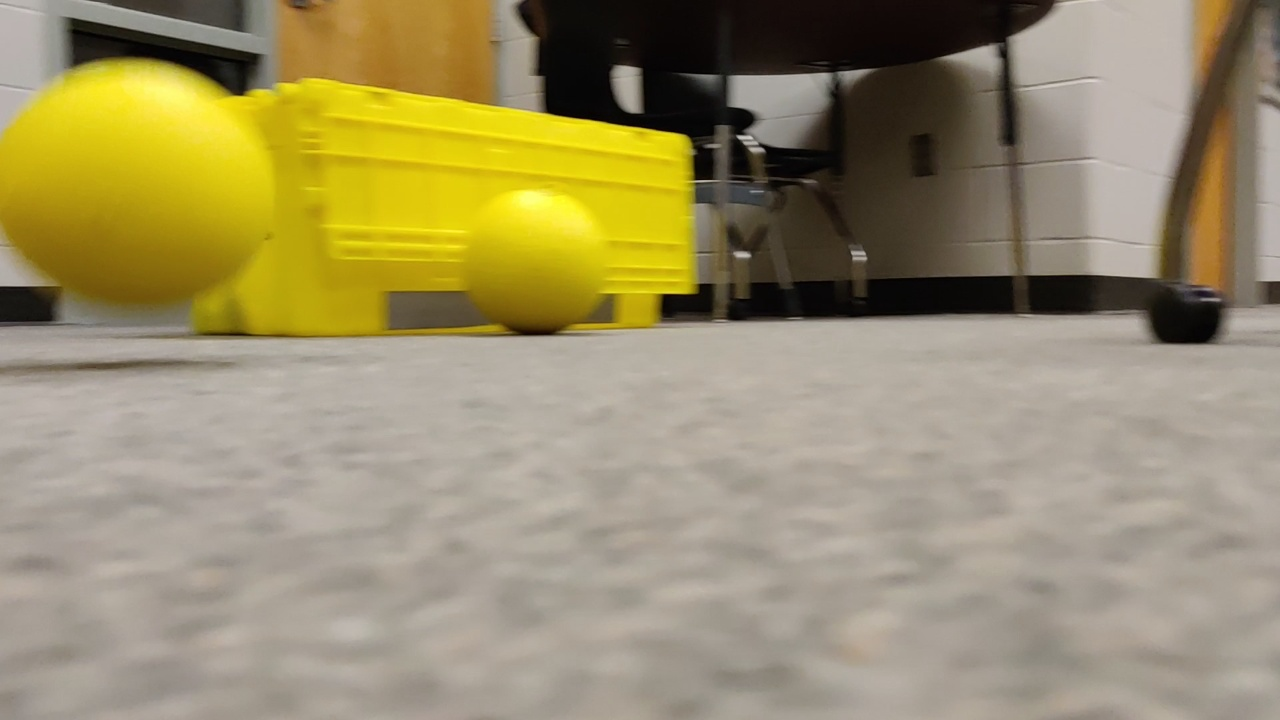Ball: (4, 57, 277, 311), (460, 191, 608, 340)
